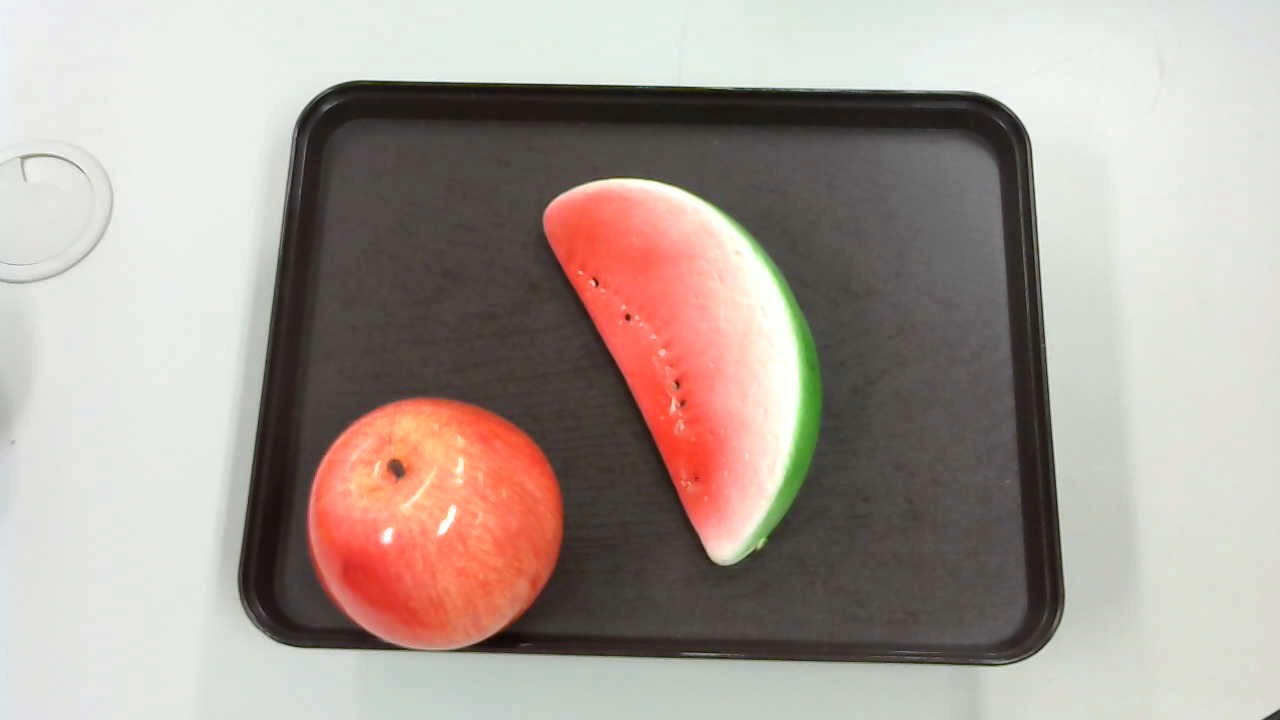red apple: (302, 395, 563, 656)
water melon: (533, 173, 823, 564)
